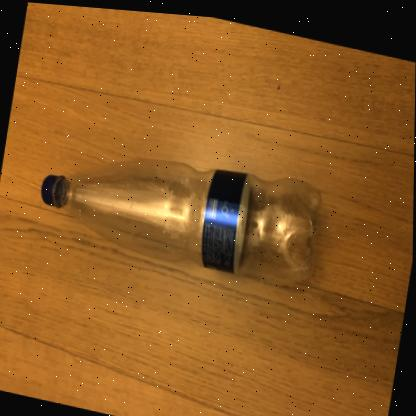Plastic: (42, 155, 321, 279)
